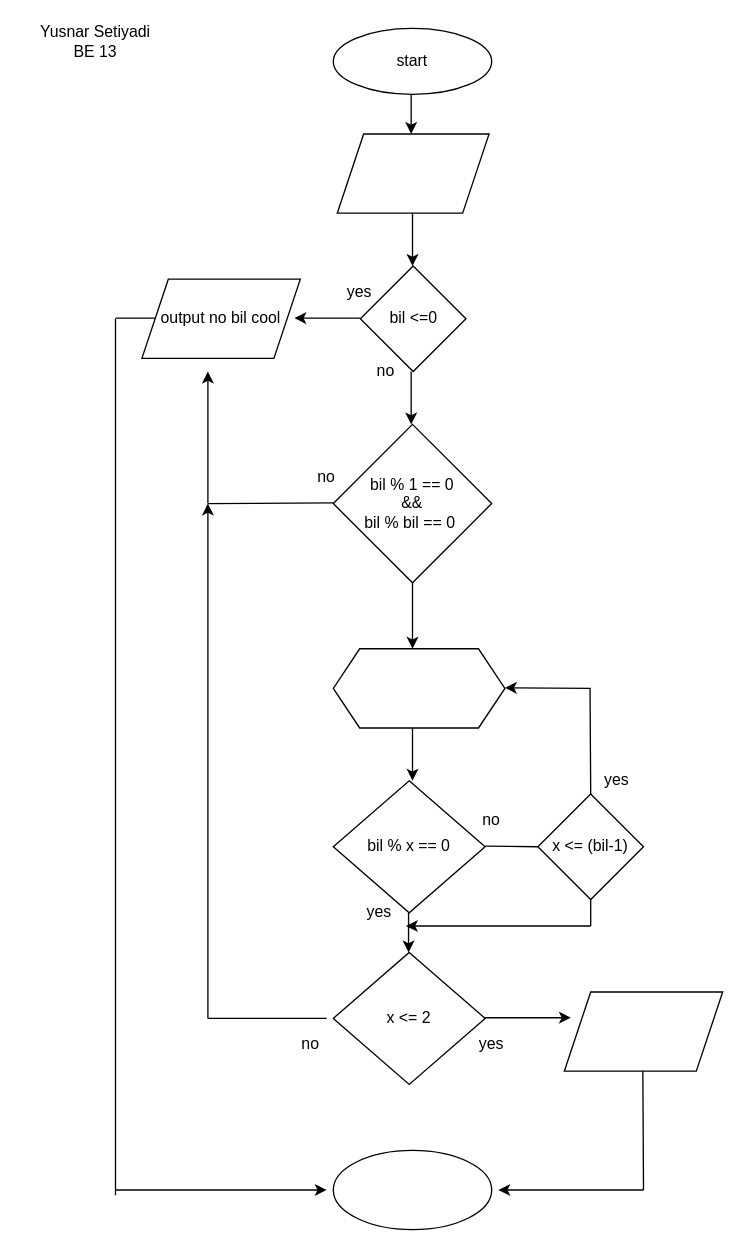
The diagram is 746 pixels wide and 1253 high, and some of its shapes have lost their labels. The shapes that lost their labels are listed below. From the top down, each one's centre as x and y in pixels, then its label:
(x=412, y=173): input bil
(x=418, y=687): x = 2 to (bil-1)
(x=643, y=1031): output bil cool
(x=412, y=1189): done
